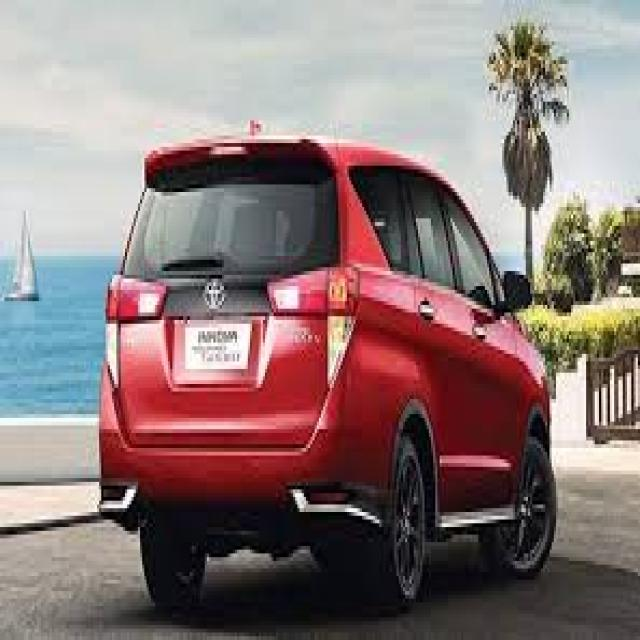light_vehicle: (98, 133, 558, 611)
